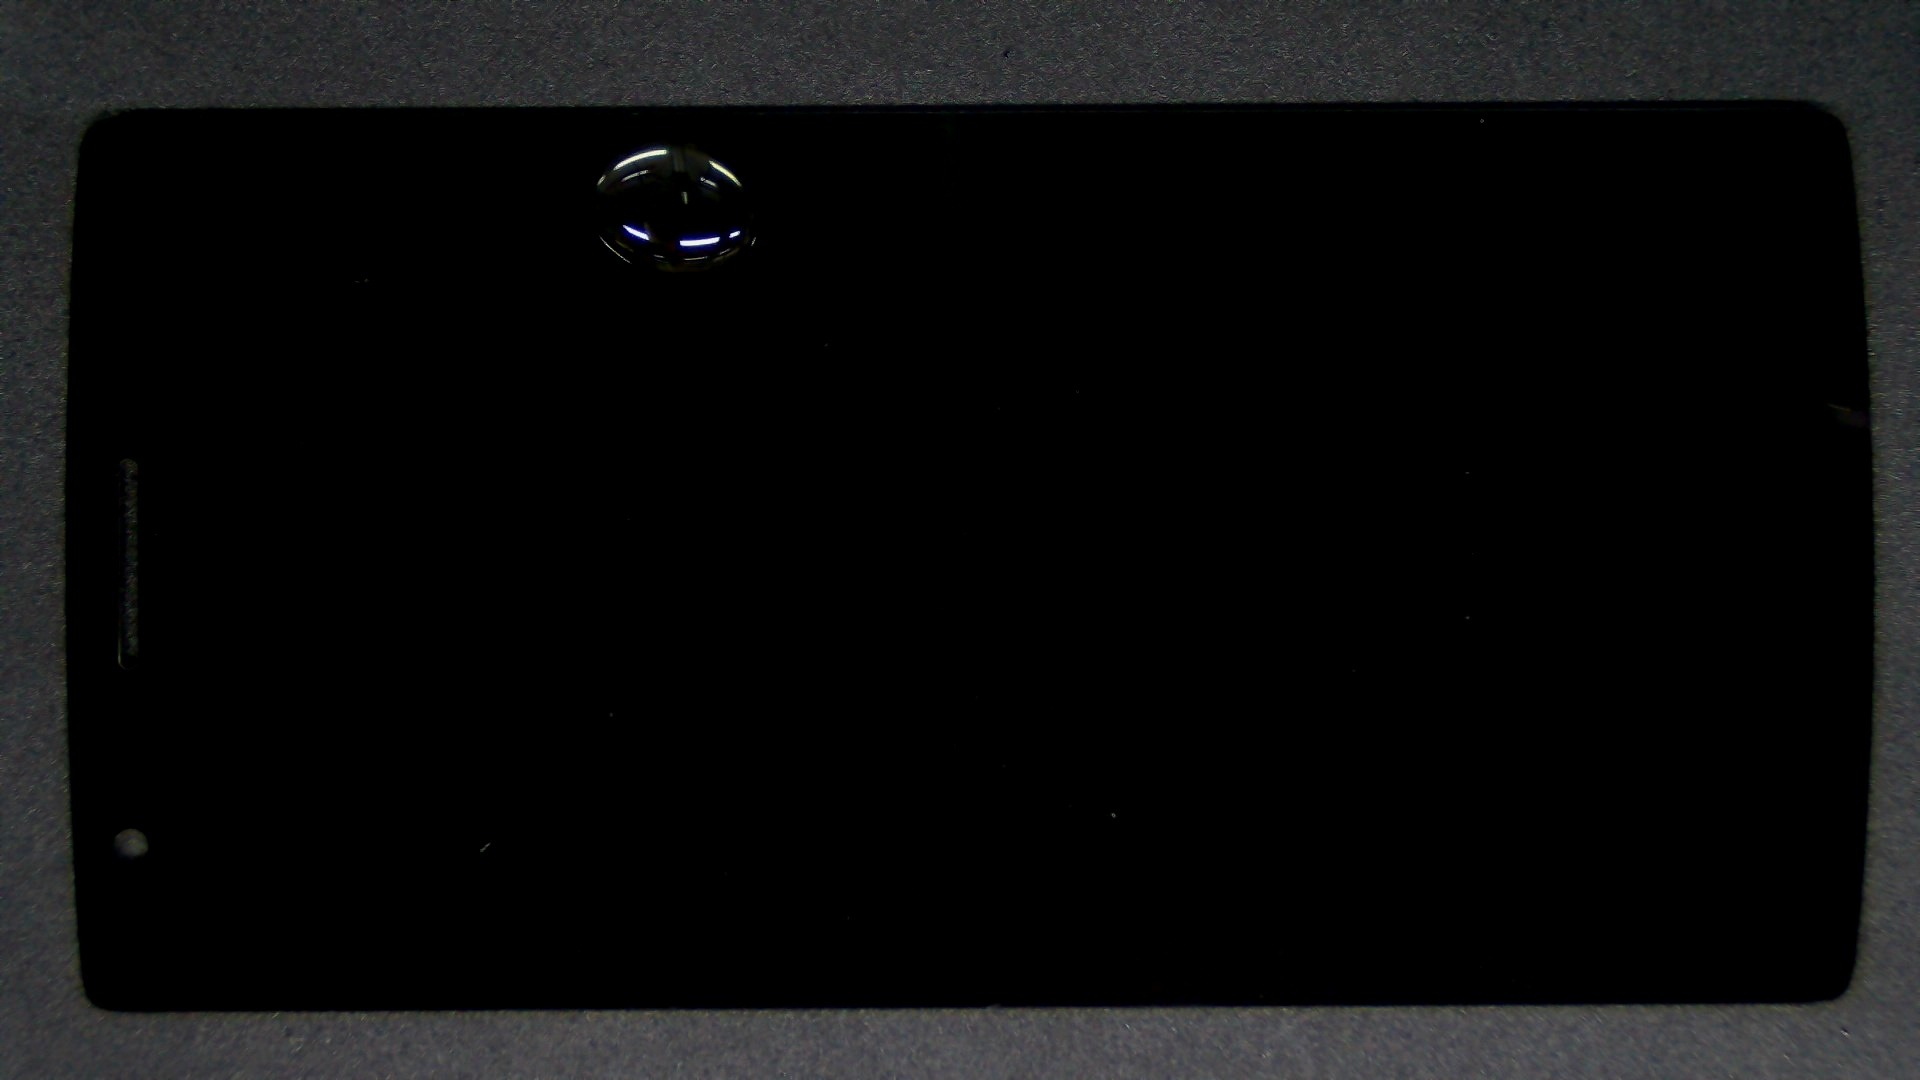oil: (336, 69, 1007, 207)
